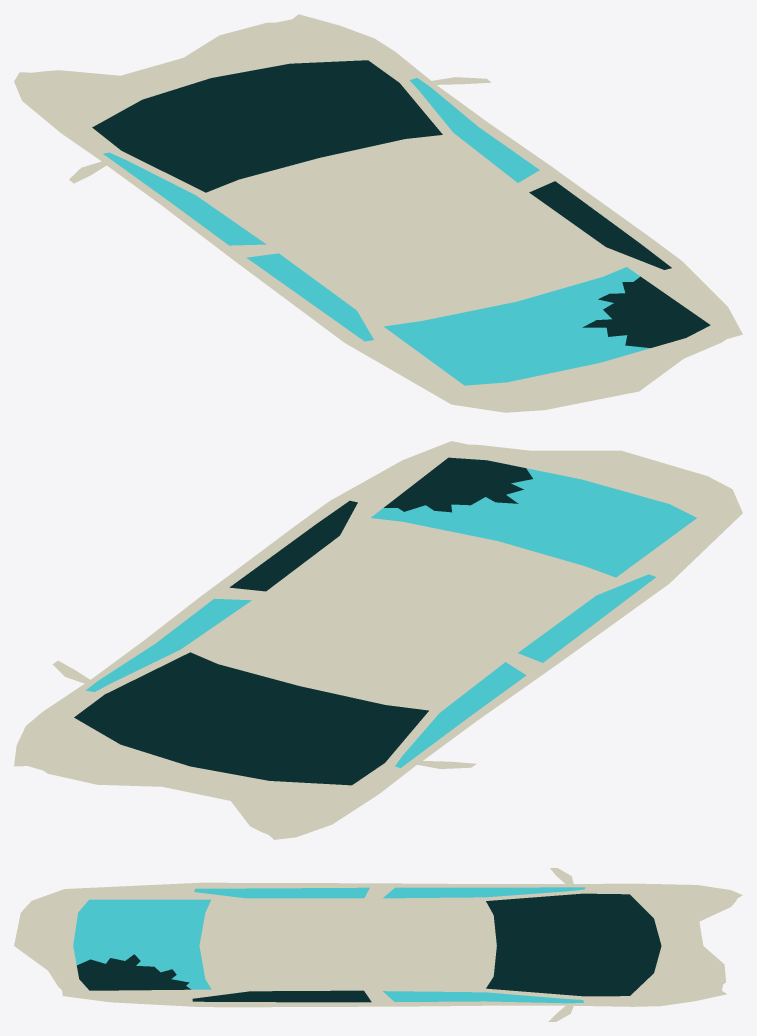
The model's file is samochod_wypadek(1).dae.
3 views of the same model, one above another, from view 1: azimuth 30°, elevation 25°; view 2: azimuth 150°, elevation 25°; view 3: azimuth 270°, elevation 25° (orthographic). The views are drawn at different scales.
Visible parts, largest first — view 1: Plane; view 2: Plane; view 3: Plane.
Boxes of the visible parts, <box> form: Plane: <box>14,14,742,412</box>; Plane: <box>14,441,742,839</box>; Plane: <box>14,868,742,1021</box>.
Bounding box in the file's own units: 1.88 × 3.76 × 0.
